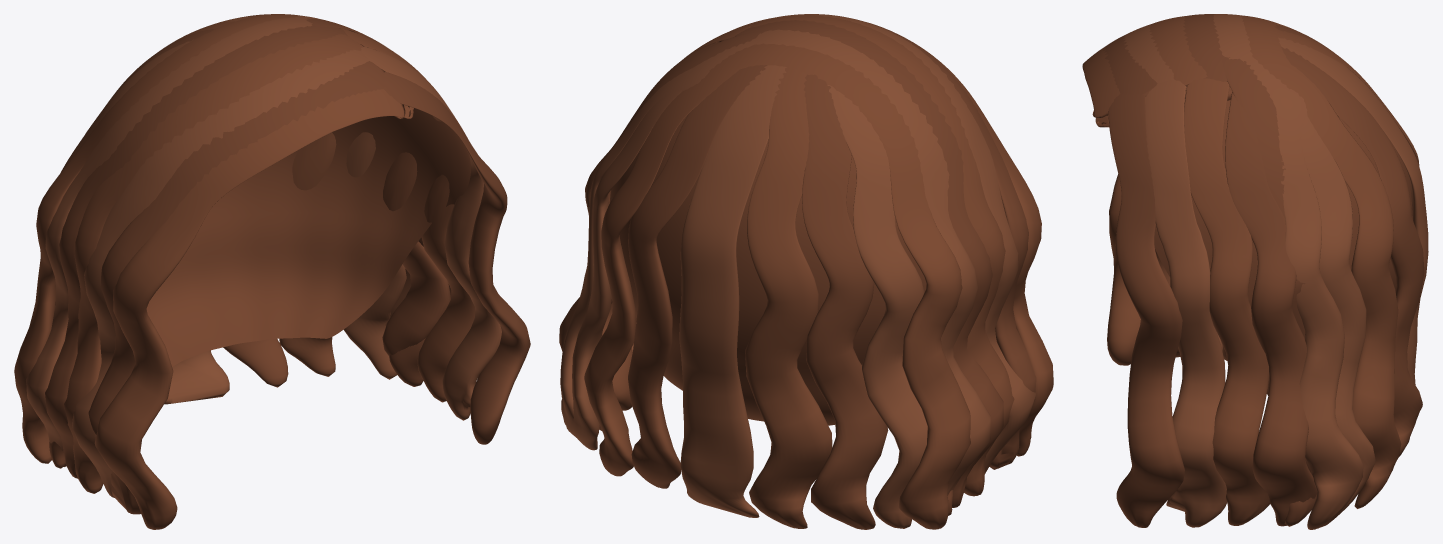
The model's file is Feminine-Feminine-curls-cap261-hair-346cf7ad.glb.
3 views of the same model, side by side, from view 1: azimuth 30°, elevation 25°; view 2: azimuth 150°, elevation 25°; view 3: azimuth 270°, elevation 25° (orthographic). The views are drawn at different scales.
Parts seen in each view (by area): view 1: 226 hair / Hair / sculpted 0.001, 226 hair / Hair / sculpted 1.001, 226 hair / Hair / sculpted 1.002, 226 hair / Hair / sculpted 2.001; view 2: 226 hair / Hair / sculpted 0.001, 226 hair / Hair / sculpted 2.001, 226 hair / Hair / sculpted 1.002, 226 hair / Hair / sculpted 1.001; view 3: 226 hair / Hair / sculpted 1.002, 226 hair / Hair / sculpted 2.001, 226 hair / Hair / sculpted 0.001, 226 hair / Hair / sculpted 1.001.
Part boxes in pixels (x1,y1,x2,y2): 226 hair / Hair / sculpted 0.001: (14, 14, 474, 529); 226 hair / Hair / sculpted 1.001: (146, 33, 470, 366); 226 hair / Hair / sculpted 1.002: (45, 14, 530, 514); 226 hair / Hair / sculpted 2.001: (26, 15, 501, 497); 226 hair / Hair / sculpted 0.001: (584, 15, 1053, 529); 226 hair / Hair / sculpted 2.001: (560, 14, 1035, 528); 226 hair / Hair / sculpted 1.002: (559, 14, 1036, 529); 226 hair / Hair / sculpted 1.001: (609, 42, 926, 425); 226 hair / Hair / sculpted 1.002: (1103, 14, 1424, 527); 226 hair / Hair / sculpted 2.001: (1123, 14, 1428, 529); 226 hair / Hair / sculpted 0.001: (1082, 15, 1419, 525); 226 hair / Hair / sculpted 1.001: (1154, 69, 1412, 395).
Size of the model in its own units: 0.9483 by 0.8974 by 0.6709.
